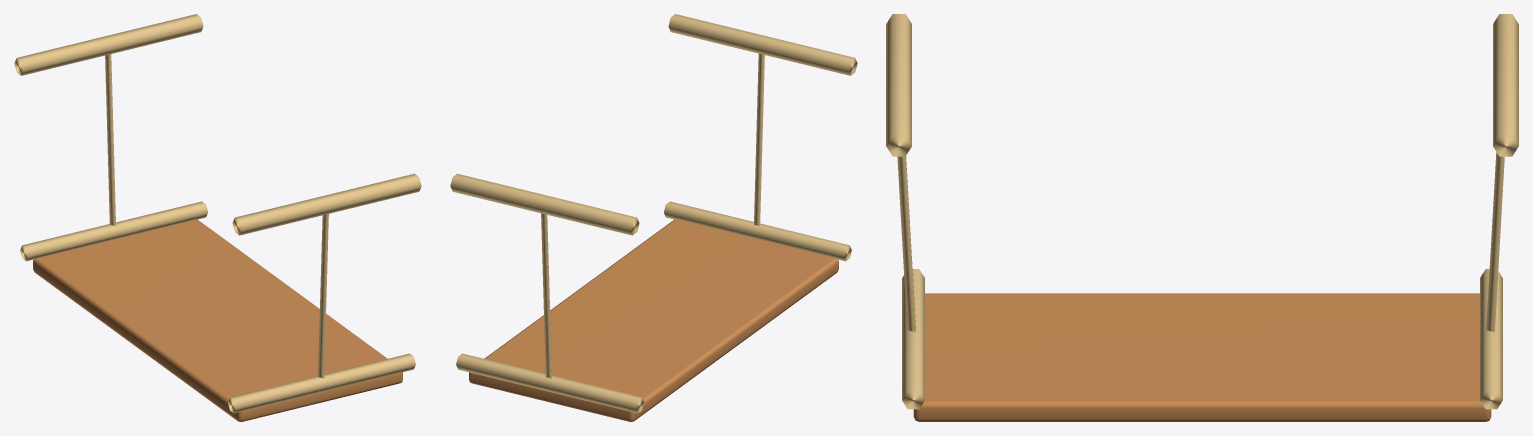
Rendered from cove_bridge.glb.
3 renders of one model, left to right at view 1: azimuth 30°, elevation 25°; view 2: azimuth 150°, elevation 25°; view 3: azimuth 270°, elevation 25°, orthographic. The views are drawn at different scales.
Parts seen in each view (by area): view 1: Bridge; view 2: Bridge; view 3: Bridge.
Boxes of the visible parts, left/top/right/bottom form: Bridge: left=14, top=14, right=421, bottom=421; Bridge: left=450, top=14, right=857, bottom=421; Bridge: left=886, top=14, right=1518, bottom=421.
Bounding box in the file's own units: 1 × 1.12 × 2.19.
